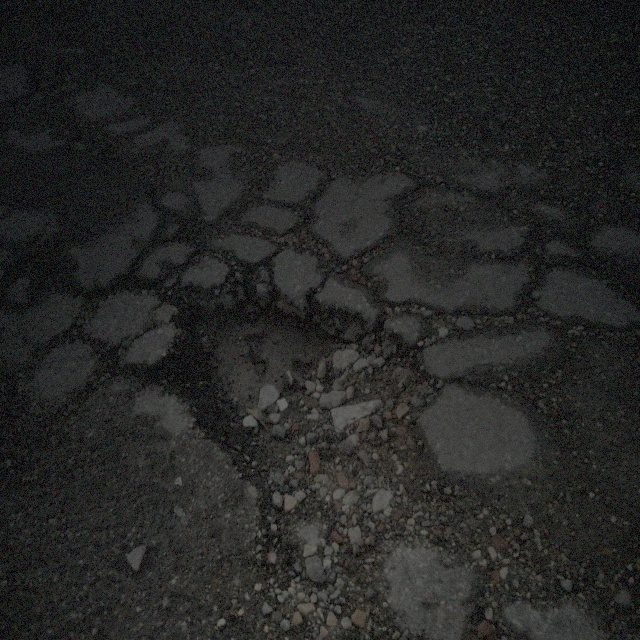pothole: (161, 257, 399, 521)
